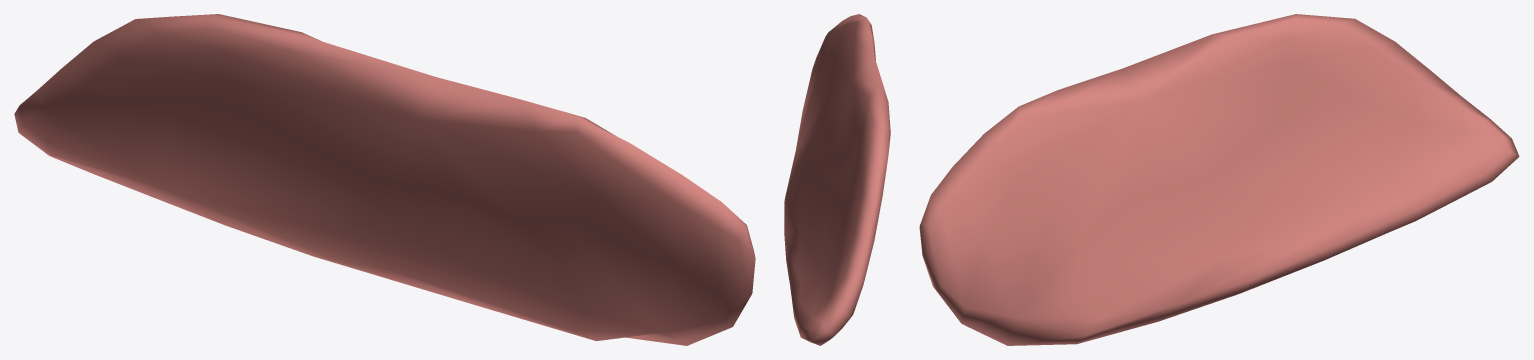
The picture shows the model from 3 angles, left to right: view 1: azimuth 30°, elevation 25°; view 2: azimuth 150°, elevation 25°; view 3: azimuth 270°, elevation 25°; orthographic projection. The views are drawn at different scales.
Parts seen in each view (by area): view 1: ZA_4e9999f36867443f; view 2: ZA_4e9999f36867443f; view 3: ZA_4e9999f36867443f.
Boxes of the visible parts, bbox=[...] form: ZA_4e9999f36867443f: bbox=[14, 14, 755, 345]; ZA_4e9999f36867443f: bbox=[784, 14, 890, 345]; ZA_4e9999f36867443f: bbox=[919, 14, 1519, 345].
Size of the model in its own units: 0.00498 by 0.00347 by 0.00826.
